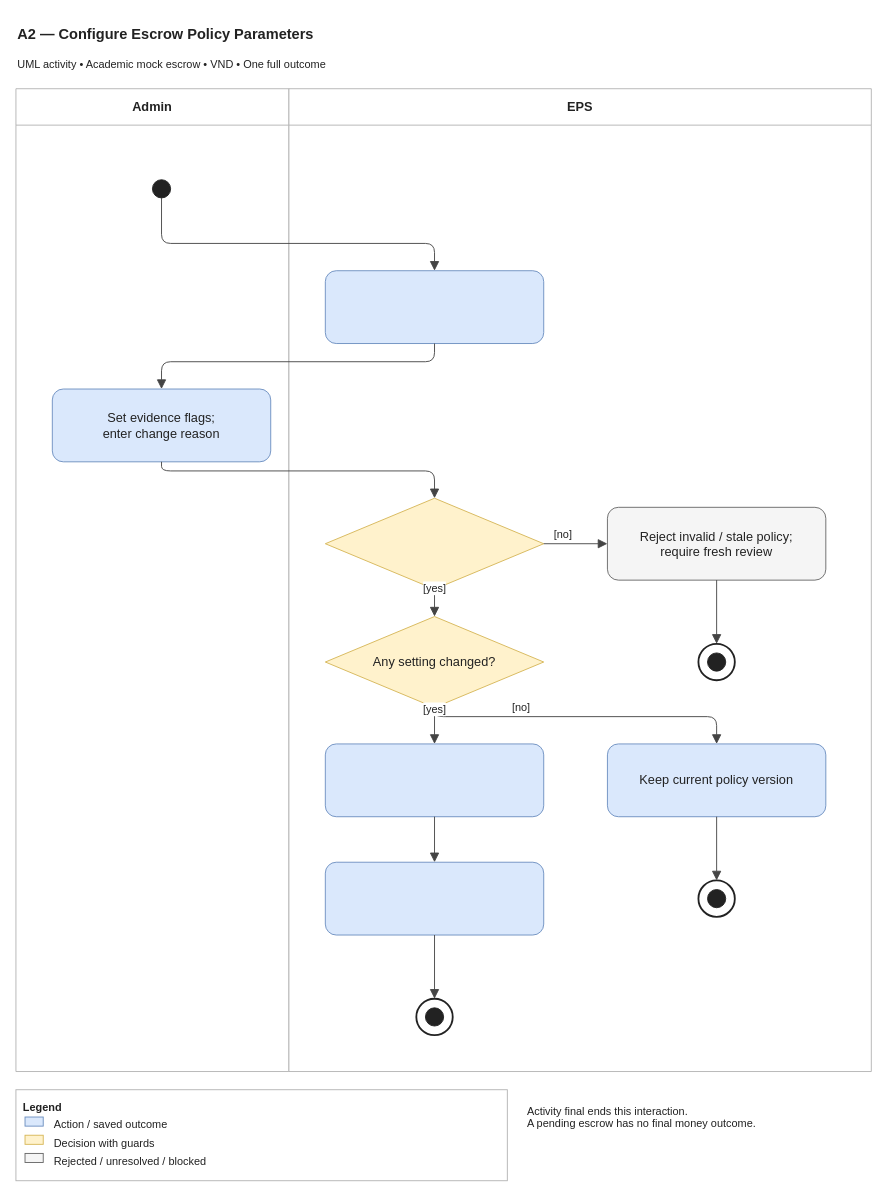
Some shapes in this 887 by 1197 pixel diagram are drawn without their labels. The shapes that lost their labels are listed below. From the top down, each one's box as (x1, y1, x2, y2) in pixels, then its label:
(324, 270, 544, 344): Show current policy; future escrows only
(324, 497, 544, 589): Policy update eligible?
(324, 743, 544, 817): Publish new policy version; audit before / after
(324, 861, 544, 935): Use for new escrows; keep existing snapshots
